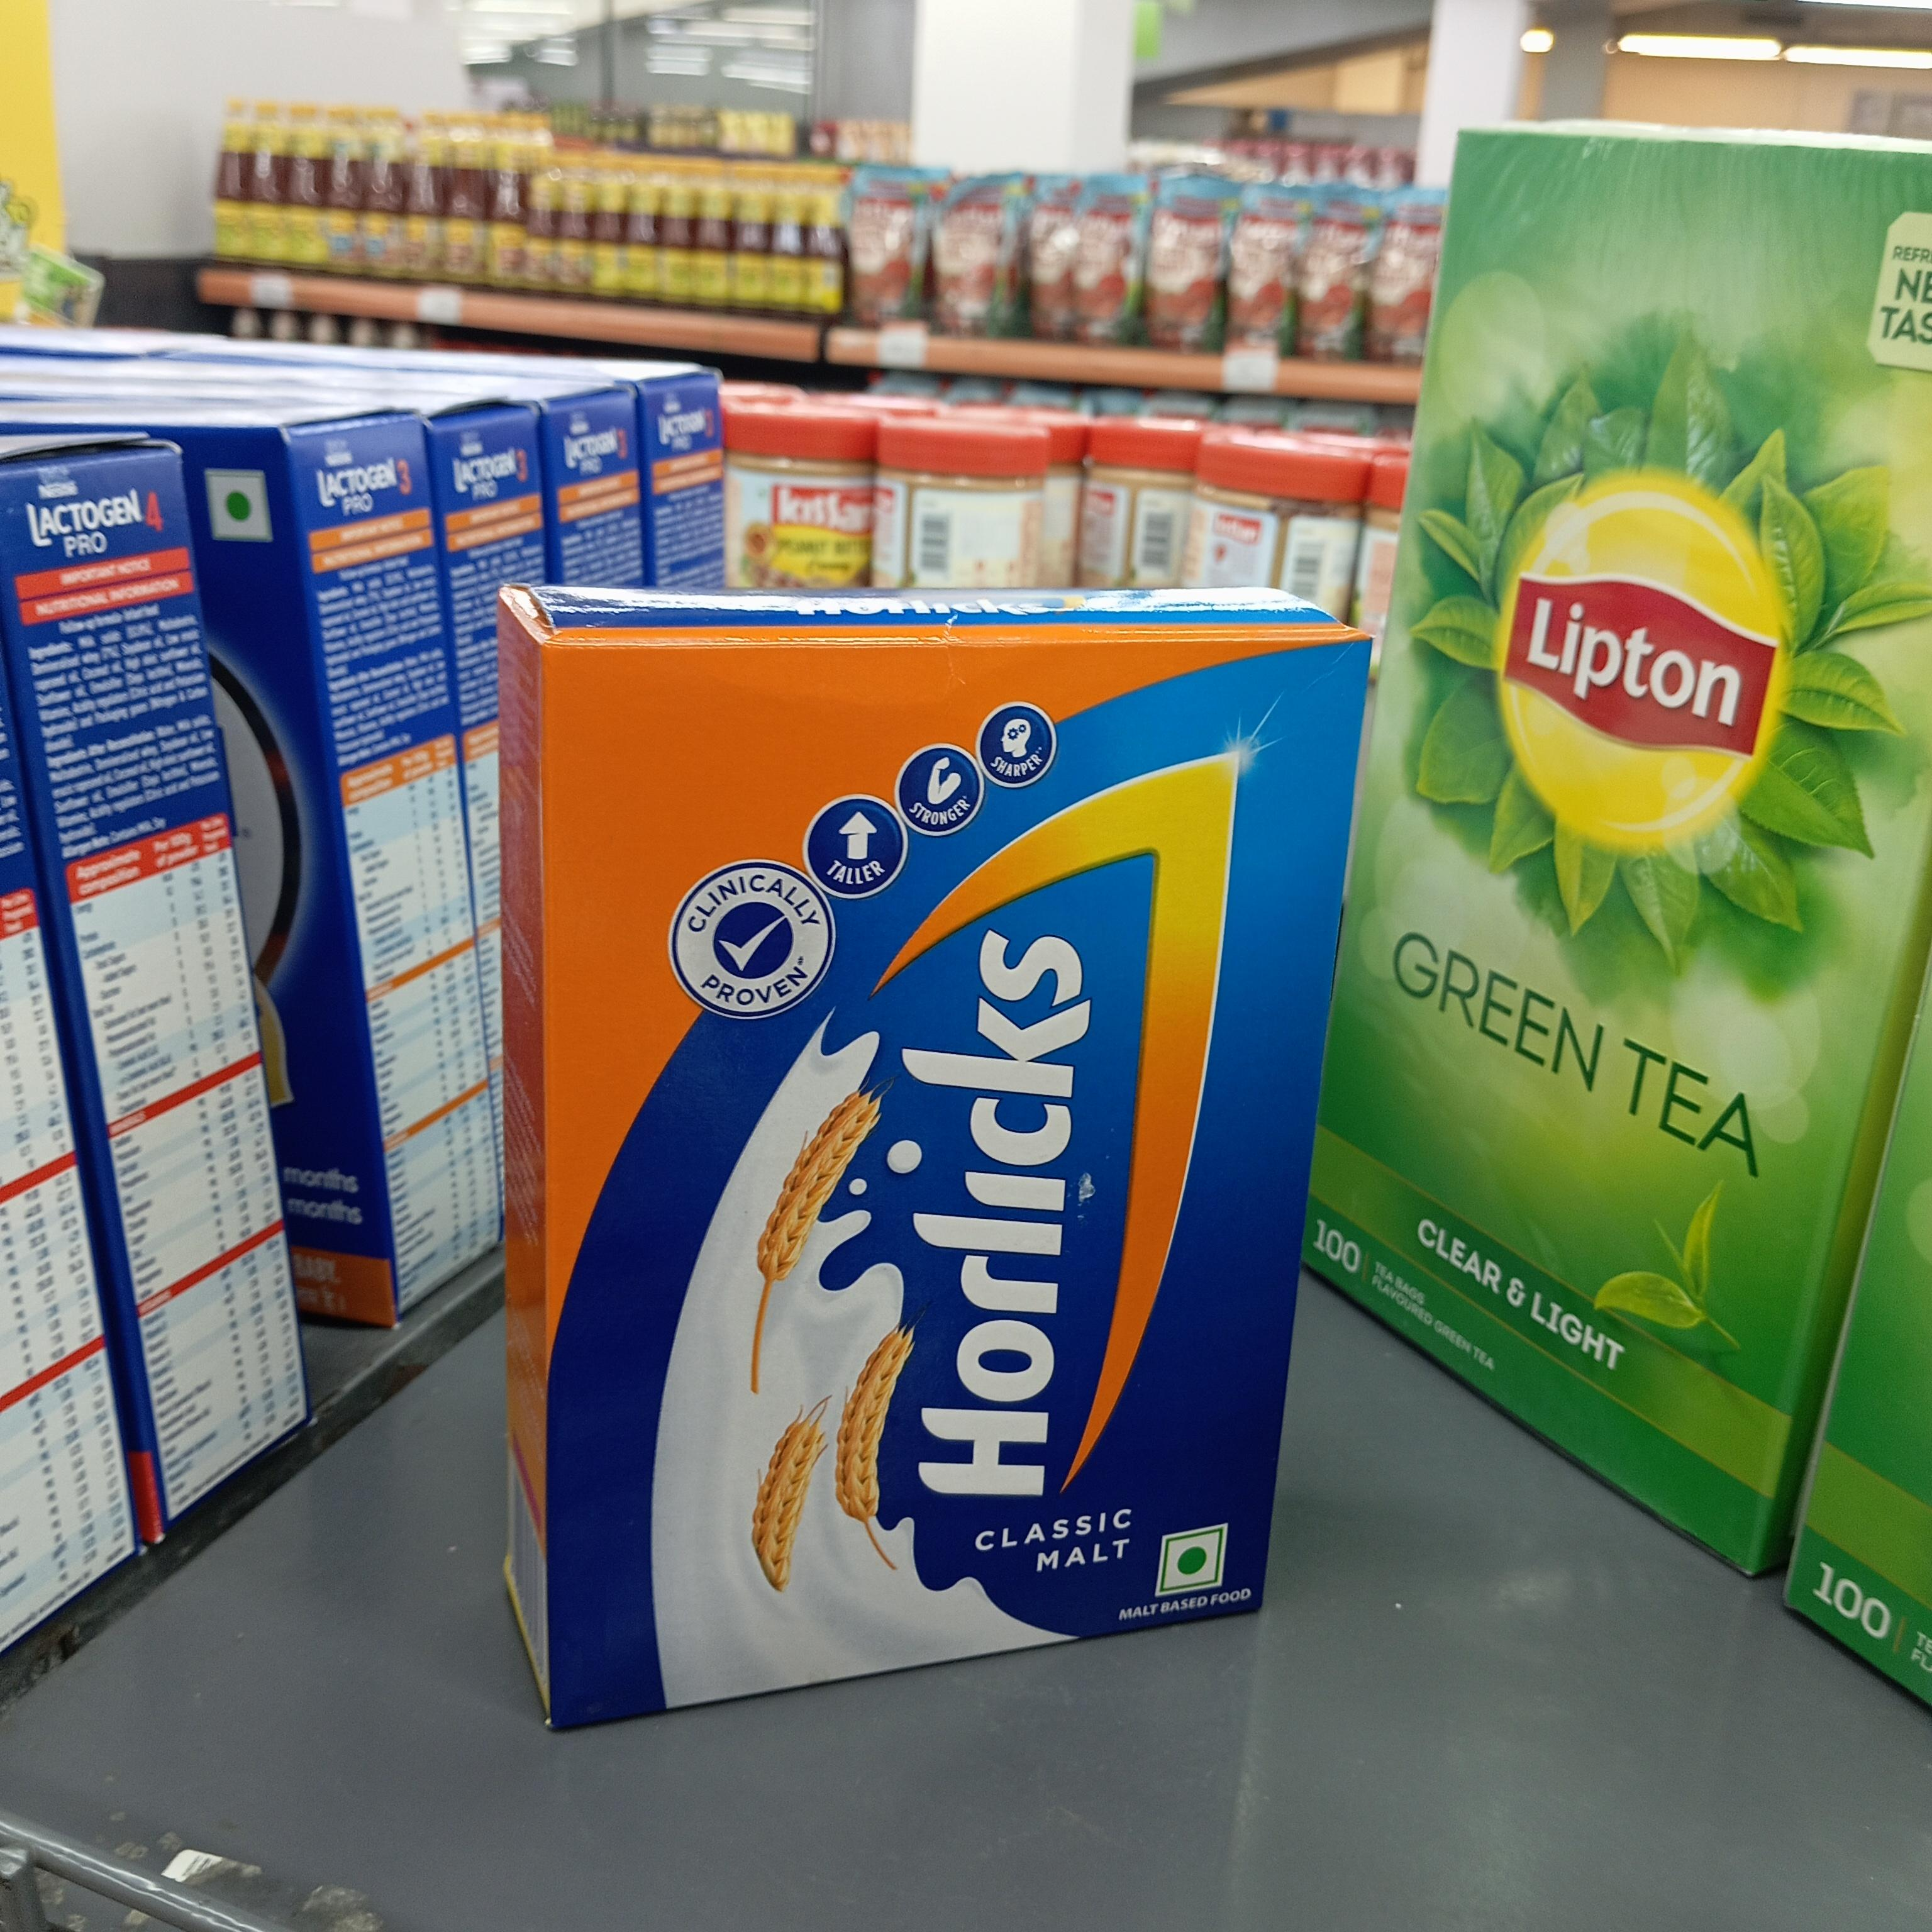HORLICK_CLASSIC_MALT_500_G_PACK: (543, 628, 1346, 1700)
